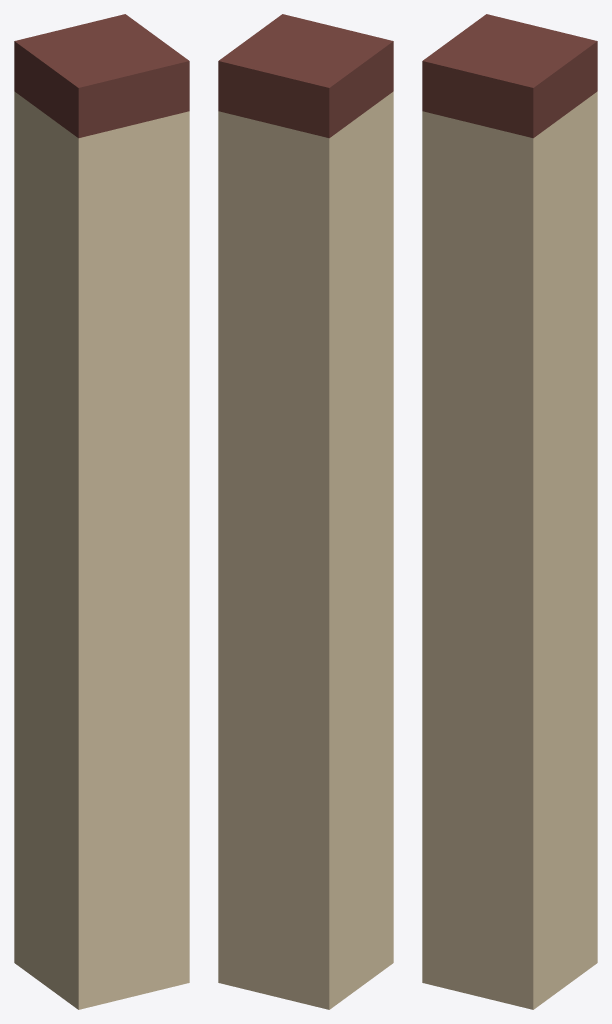
Rendered from WallPillar.fbx.
3 views of the same model, side by side, from view 1: azimuth 30°, elevation 25°; view 2: azimuth 150°, elevation 25°; view 3: azimuth 330°, elevation 25° (orthographic).
Parts seen in each view (by area): view 1: WallPillar; view 2: WallPillar; view 3: WallPillar.
Part boxes in pixels (x1=…): WallPillar: x1=14, y1=14, x2=189, y2=1009; WallPillar: x1=218, y1=14, x2=393, y2=1009; WallPillar: x1=422, y1=14, x2=597, y2=1009.
Bounding box in the file's own units: 0.4 × 0.4 × 3.17.
